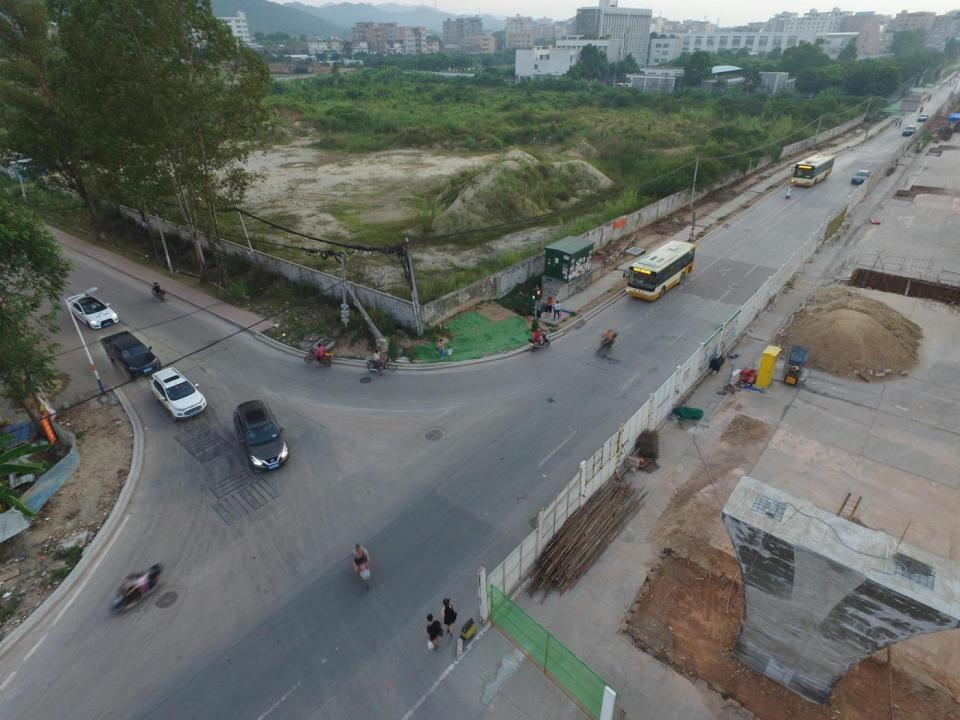bus: (623, 240, 696, 302), (791, 152, 836, 187)
car: (231, 401, 289, 473), (148, 368, 206, 421), (66, 294, 117, 331), (852, 170, 872, 185), (902, 126, 917, 136), (918, 114, 929, 122)
truck: (100, 329, 161, 380)
